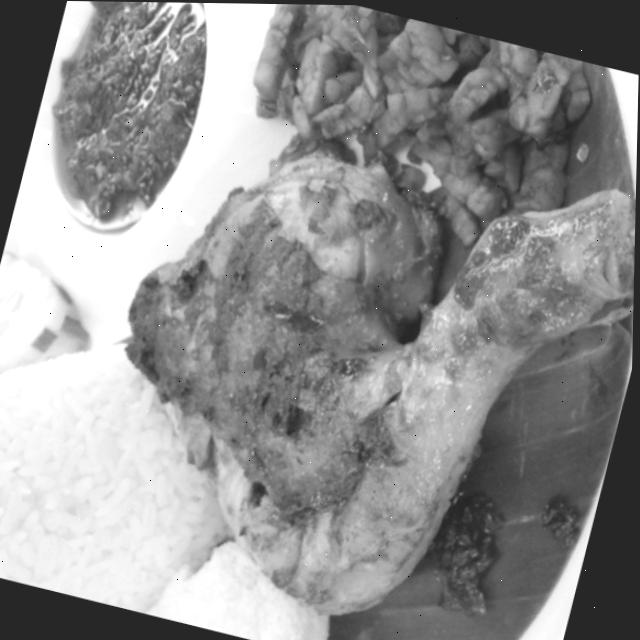鸡肉料理 含炸鸡: (24, 0, 640, 640)
